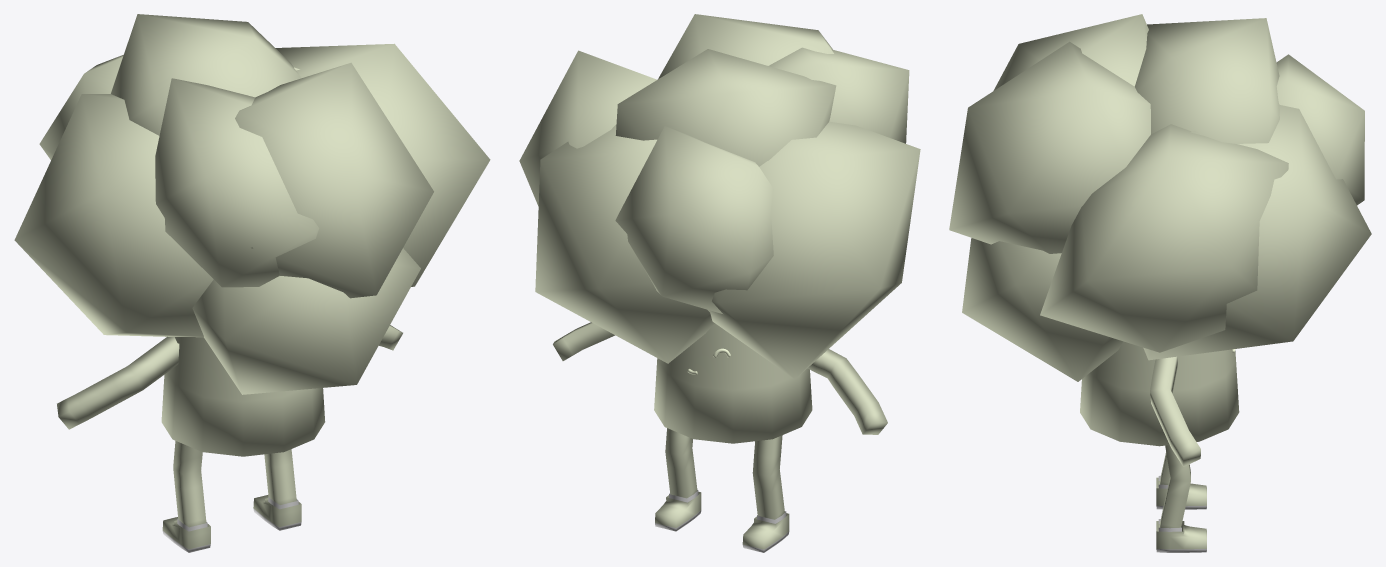
File: broccoli_GEO.fbx
The picture shows the model from 3 angles, left to right: view 1: azimuth 30°, elevation 25°; view 2: azimuth 150°, elevation 25°; view 3: azimuth 270°, elevation 25°; orthographic projection. The views are drawn at different scales.
Parts seen in each view (by area): view 1: broccoli_GEO; view 2: broccoli_GEO; view 3: broccoli_GEO.
Boxes of the visible parts, x1,y1,x2,y2 form: broccoli_GEO: [14, 14, 490, 552]; broccoli_GEO: [519, 14, 920, 552]; broccoli_GEO: [949, 14, 1371, 552].
Size of the model in its own units: 226 by 268 by 212.
